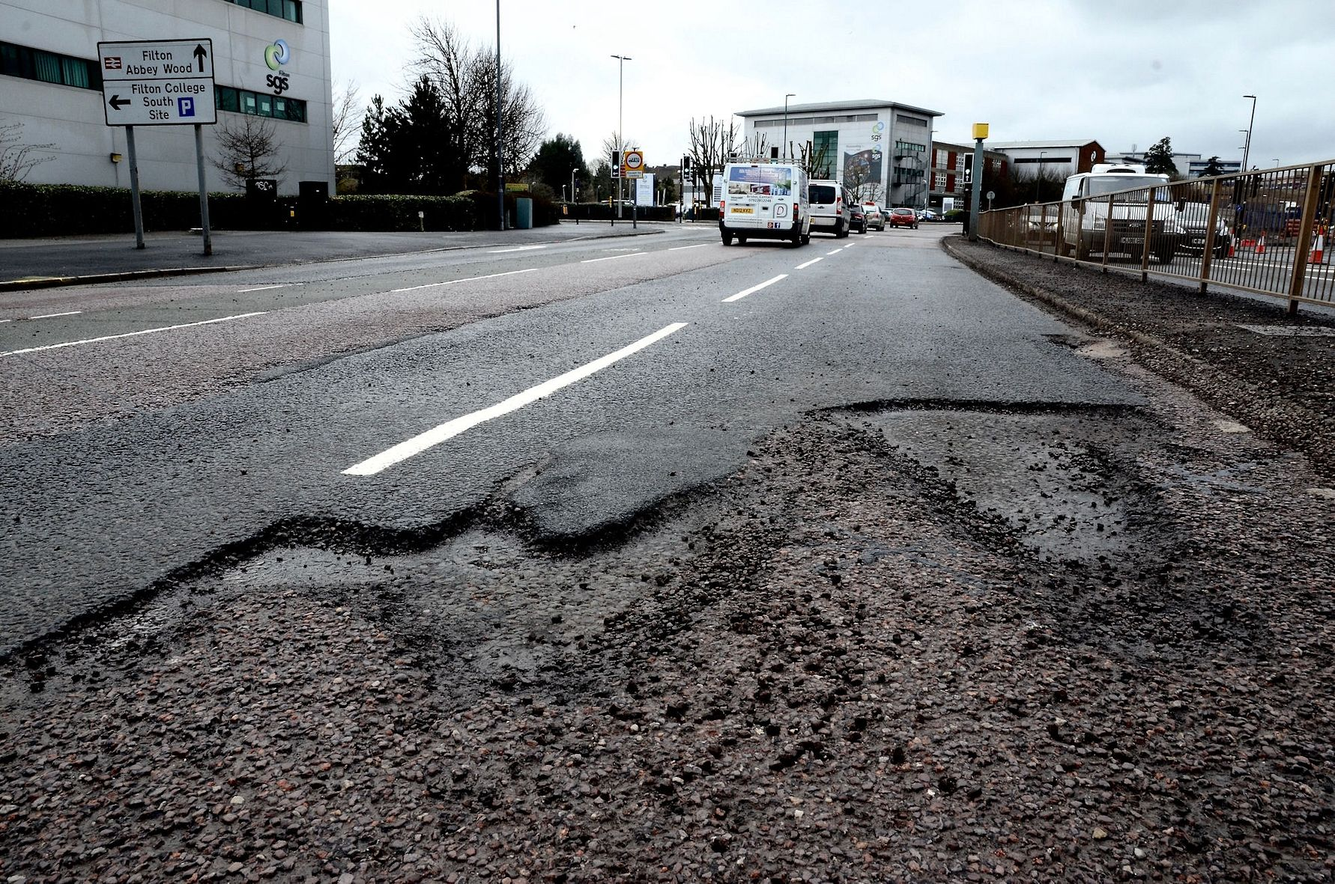Hole_in_the_road: (717, 357, 1263, 665)
